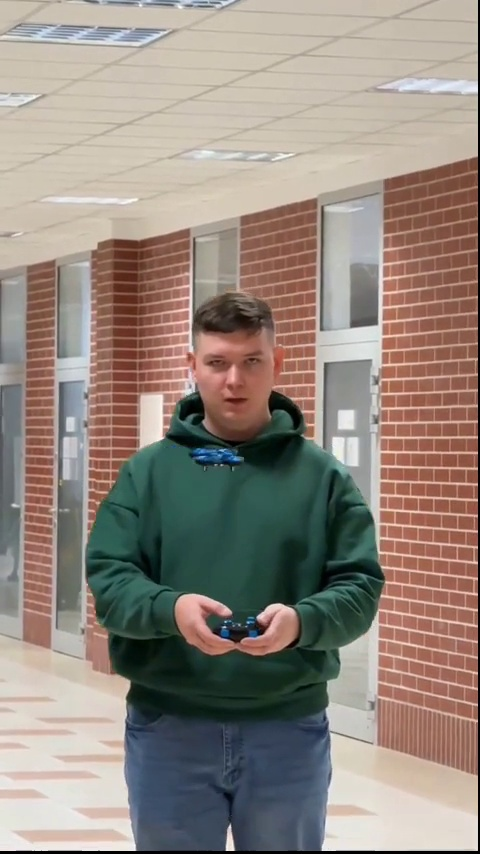drone: (190, 445, 247, 470)
no vest: (88, 289, 378, 832)
